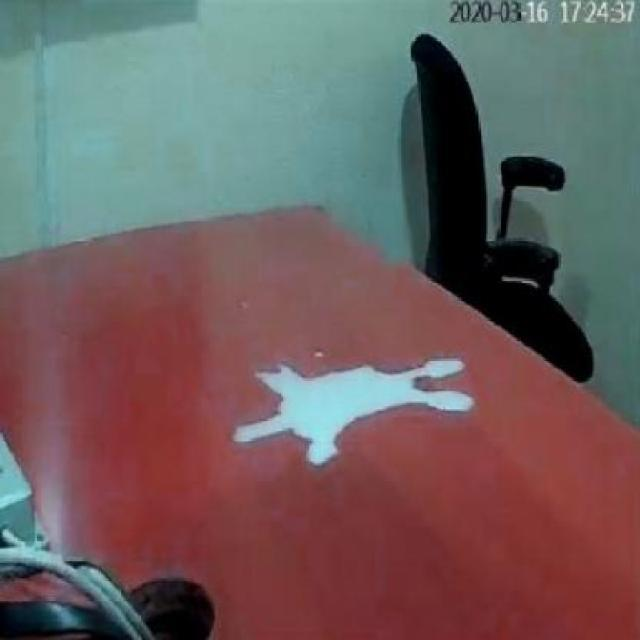spillage: (232, 358, 476, 466)
